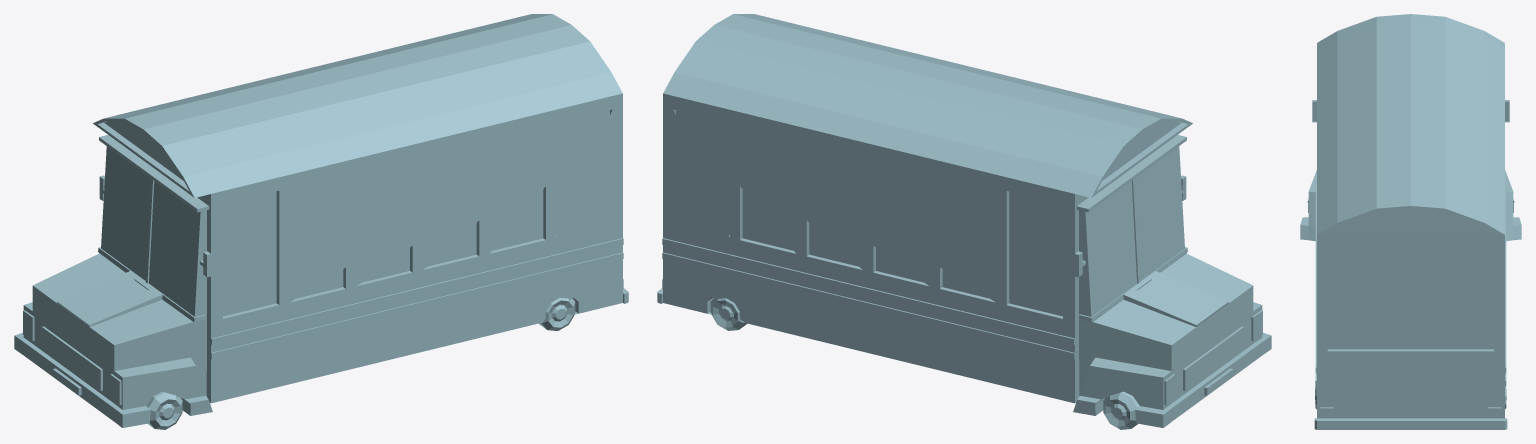
The model's file is cc0-school-bus-lod1.glb.
3 views of the same model, side by side, from view 1: azimuth 30°, elevation 25°; view 2: azimuth 150°, elevation 25°; view 3: azimuth 270°, elevation 25° (orthographic). The views are drawn at different scales.
Parts seen in each view (by area): view 1: part_0; view 2: part_0; view 3: part_0.
Boxes of the visible parts, box(x1,y1,x2,y2) form: part_0: box(14, 14, 628, 429); part_0: box(657, 14, 1271, 429); part_0: box(1300, 14, 1521, 429).
Bounding box in the file's own units: 4.61 × 2.19 × 1.88.
